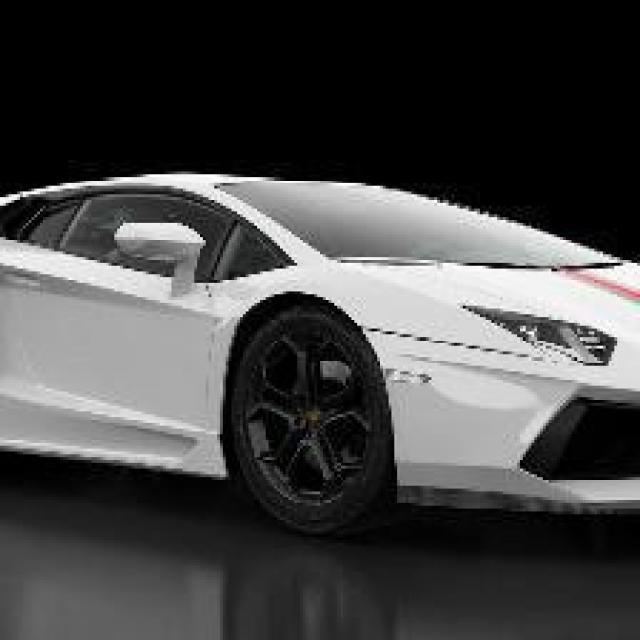damaged: (381, 358, 568, 426)
